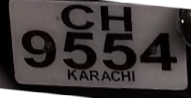4: (139, 31, 179, 72)
5: (100, 32, 138, 71), (60, 31, 97, 70)
9: (19, 29, 57, 69)
C: (60, 4, 96, 31)
H: (99, 5, 134, 32)
